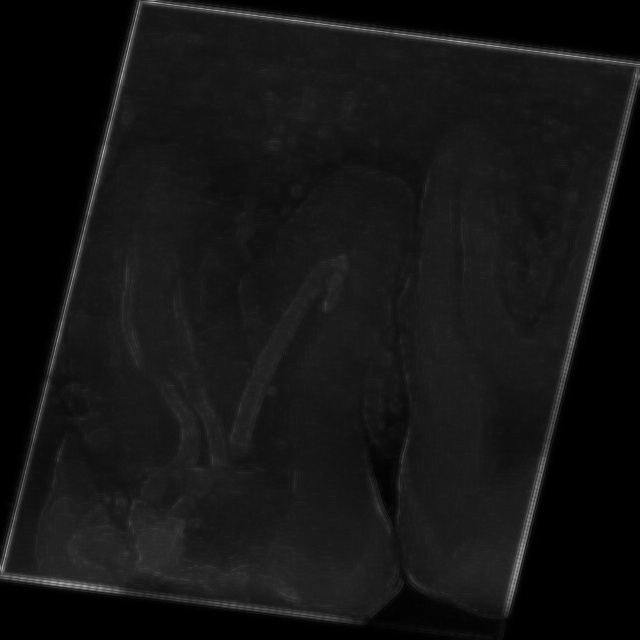Class 2- incomplete endodontic treatment: (1, 118, 520, 624)
